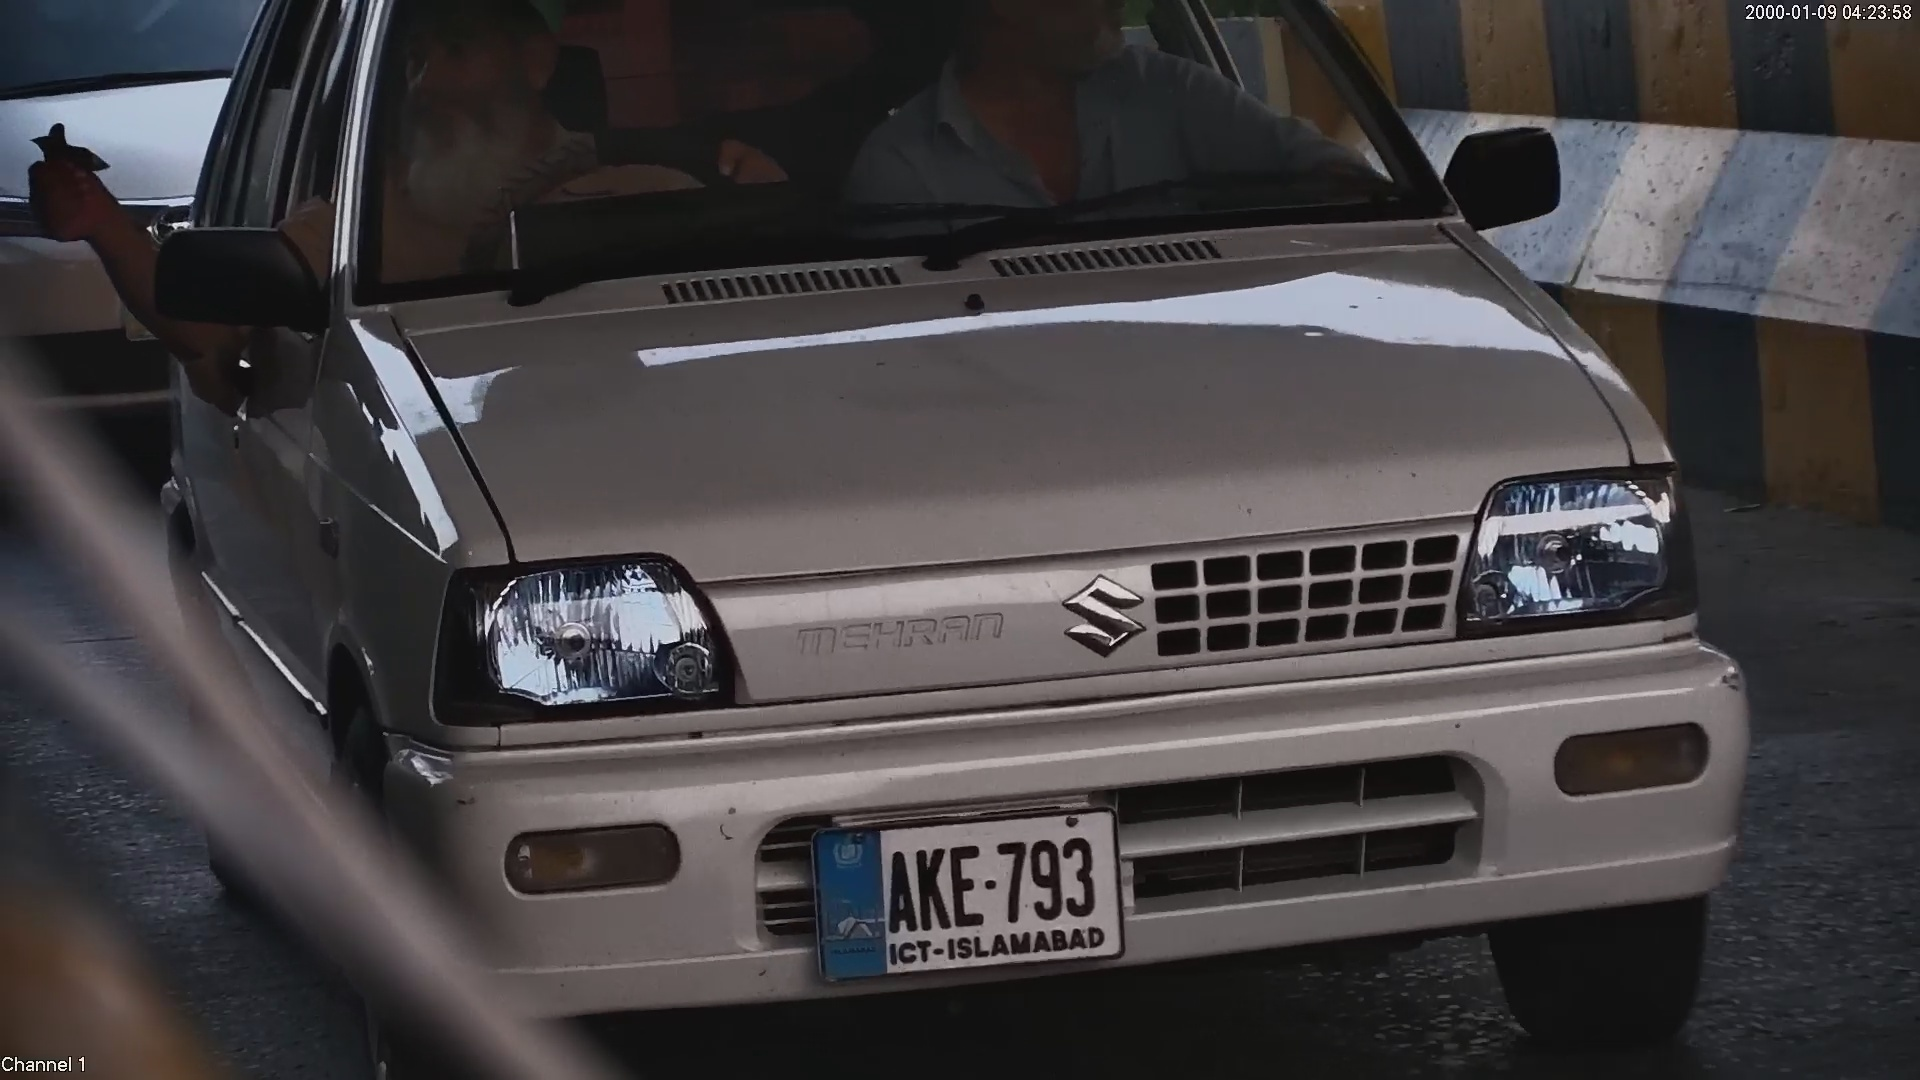Number_Plate: (791, 809, 1137, 979)
Undefined: (447, 564, 700, 705), (1473, 479, 1671, 627), (1547, 720, 1719, 809), (487, 816, 687, 888), (776, 601, 1010, 655), (1050, 568, 1145, 655)
